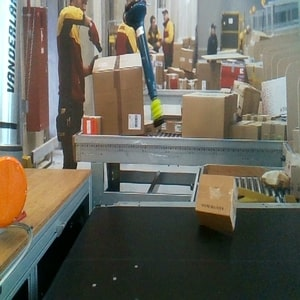box: (195, 173, 238, 232)
